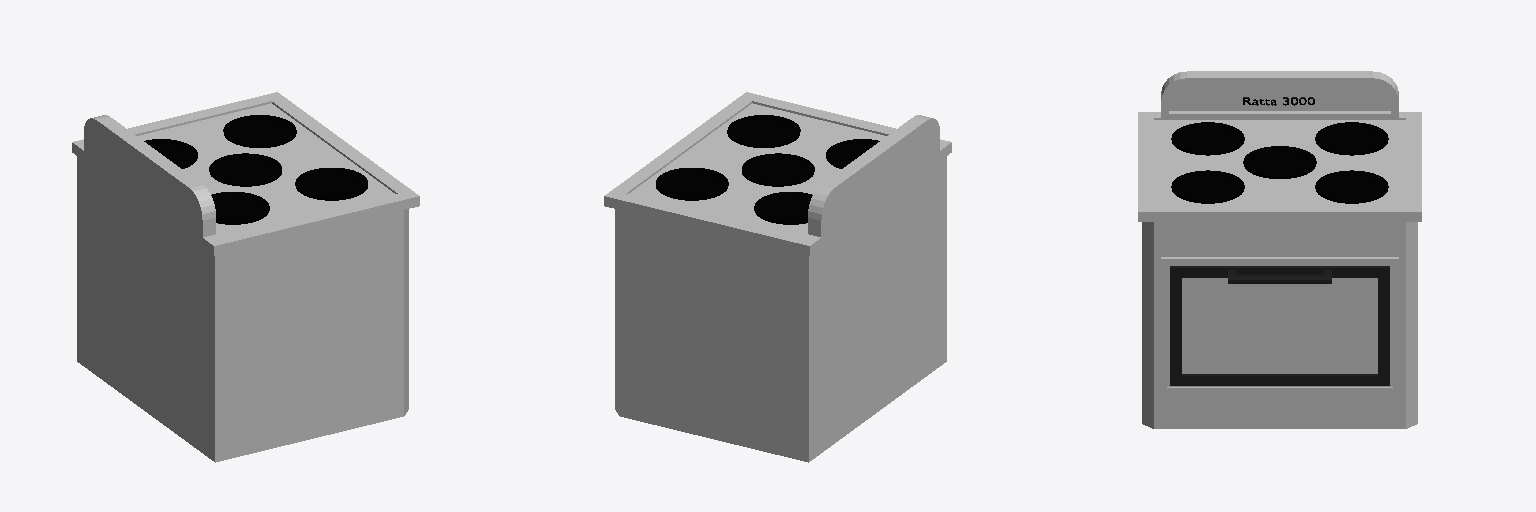
The model's file is oven.obj.
3 renders of one model, left to right at view 1: azimuth 30°, elevation 25°; view 2: azimuth 150°, elevation 25°; view 3: azimuth 270°, elevation 25°, orthographic.
Visible parts, largest first — view 1: oven_Cube.002; view 2: oven_Cube.002; view 3: oven_Cube.002, oven_door_Cube.007.
Part boxes in pixels (x1,y1,x2,y2): oven_Cube.002: (72,92,419,462); oven_Cube.002: (604,92,951,462); oven_Cube.002: (1138,71,1421,428); oven_door_Cube.007: (1170,266,1389,385).
Size of the model in its own units: 2.09 by 2.28 by 2.28.